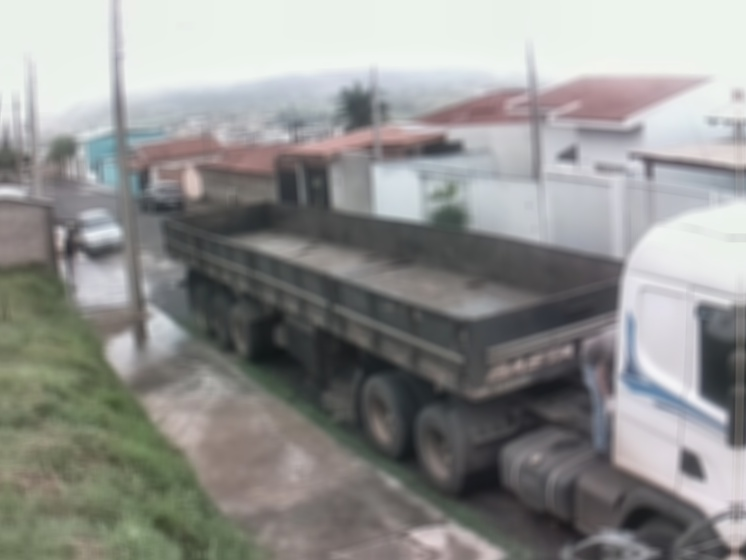person: (578, 323, 621, 454), (62, 229, 83, 292)
